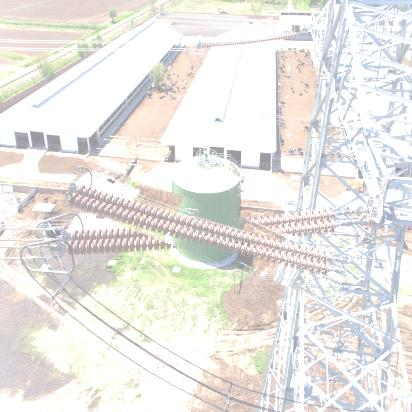insulator: (63, 183, 353, 281)
